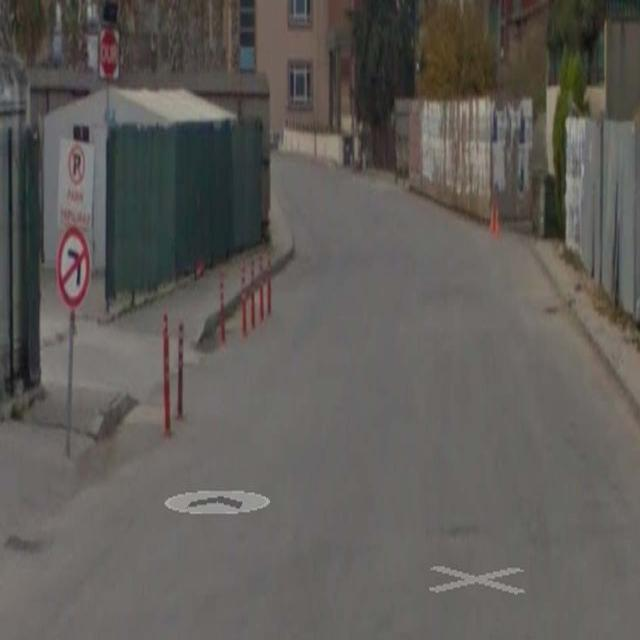dur: (100, 31, 119, 81)
soladonulmez: (57, 226, 89, 307)
